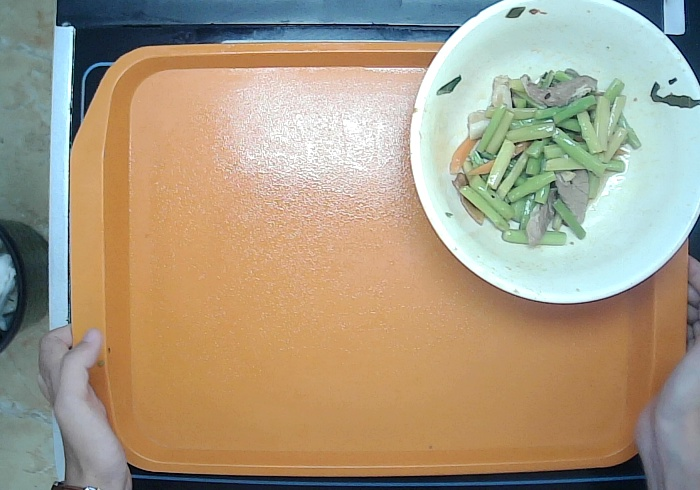ZNLD-Da_Tang_Wan: (402, 1, 700, 310)
